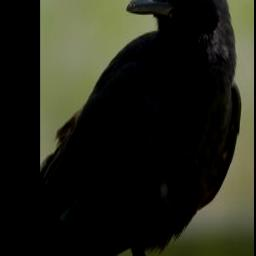Crow: (42, 0, 243, 256)
